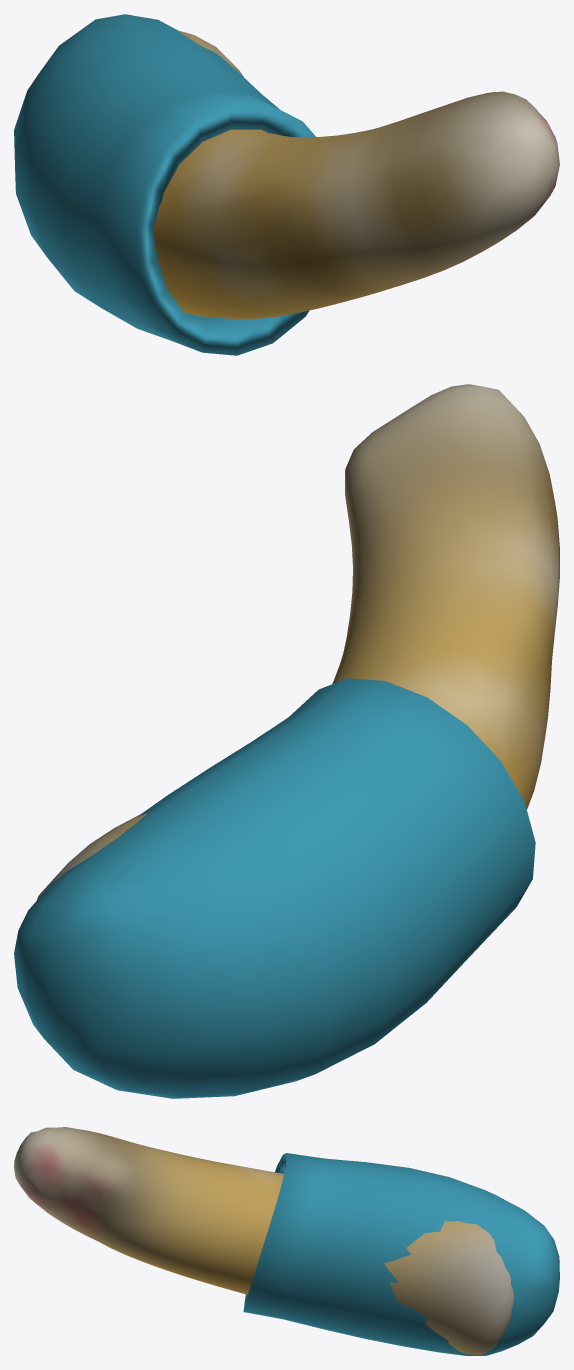
Rendered from synth_character_rarm.fbx.
3 views of the same model, one above another, from view 1: azimuth 30°, elevation 25°; view 2: azimuth 150°, elevation 25°; view 3: azimuth 270°, elevation 25° (orthographic). The views are drawn at different scales.
Parts seen in each view (by area): view 1: synth_character_rarm; view 2: synth_character_rarm; view 3: synth_character_rarm.
Part boxes in pixels (x1,y1,x2,y2): synth_character_rarm: (14,14,559,355); synth_character_rarm: (14,384,559,1098); synth_character_rarm: (14,1127,559,1355).
Size of the model in its own units: 0.3362 by 0.4163 by 0.8504.
